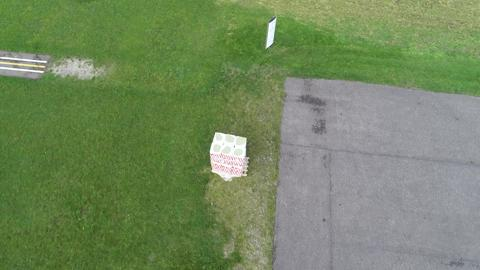RockwoolPallet: (209, 131, 250, 177)
